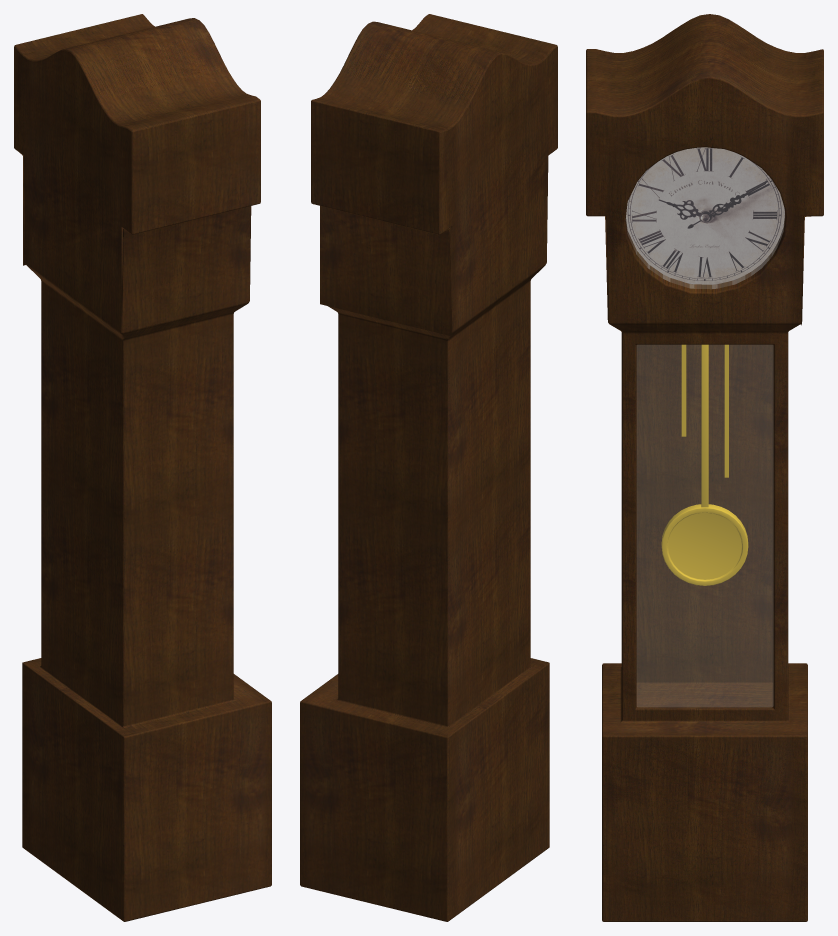
The model's file is Clock.glb.
3 views of the same model, side by side, from view 1: azimuth 30°, elevation 25°; view 2: azimuth 150°, elevation 25°; view 3: azimuth 270°, elevation 25° (orthographic).
Parts seen in each view (by area): view 1: Cube; view 2: Cube; view 3: Cube, Cube.003, Cylinder.001, Cylinder, Cylinder.002, Cube.002, Cube.001.
Part boxes in pixels (<box>): Cube: <box>14,14,271,921</box>; Cube: <box>300,14,557,921</box>; Cube: <box>586,14,823,921</box>; Cube.003: <box>637,345,773,706</box>; Cylinder.001: <box>626,147,784,288</box>; Cylinder: <box>626,147,784,284</box>; Cylinder.002: <box>661,344,748,585</box>; Cube.002: <box>724,344,728,477</box>; Cube.001: <box>681,344,686,436</box>.
Bounding box in the file's own units: 0.8462 × 4.48 × 1.16.
Materials: 5 (2 with a texture image).
